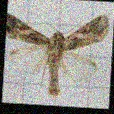Spodoptera litura: (4, 10, 109, 96)
